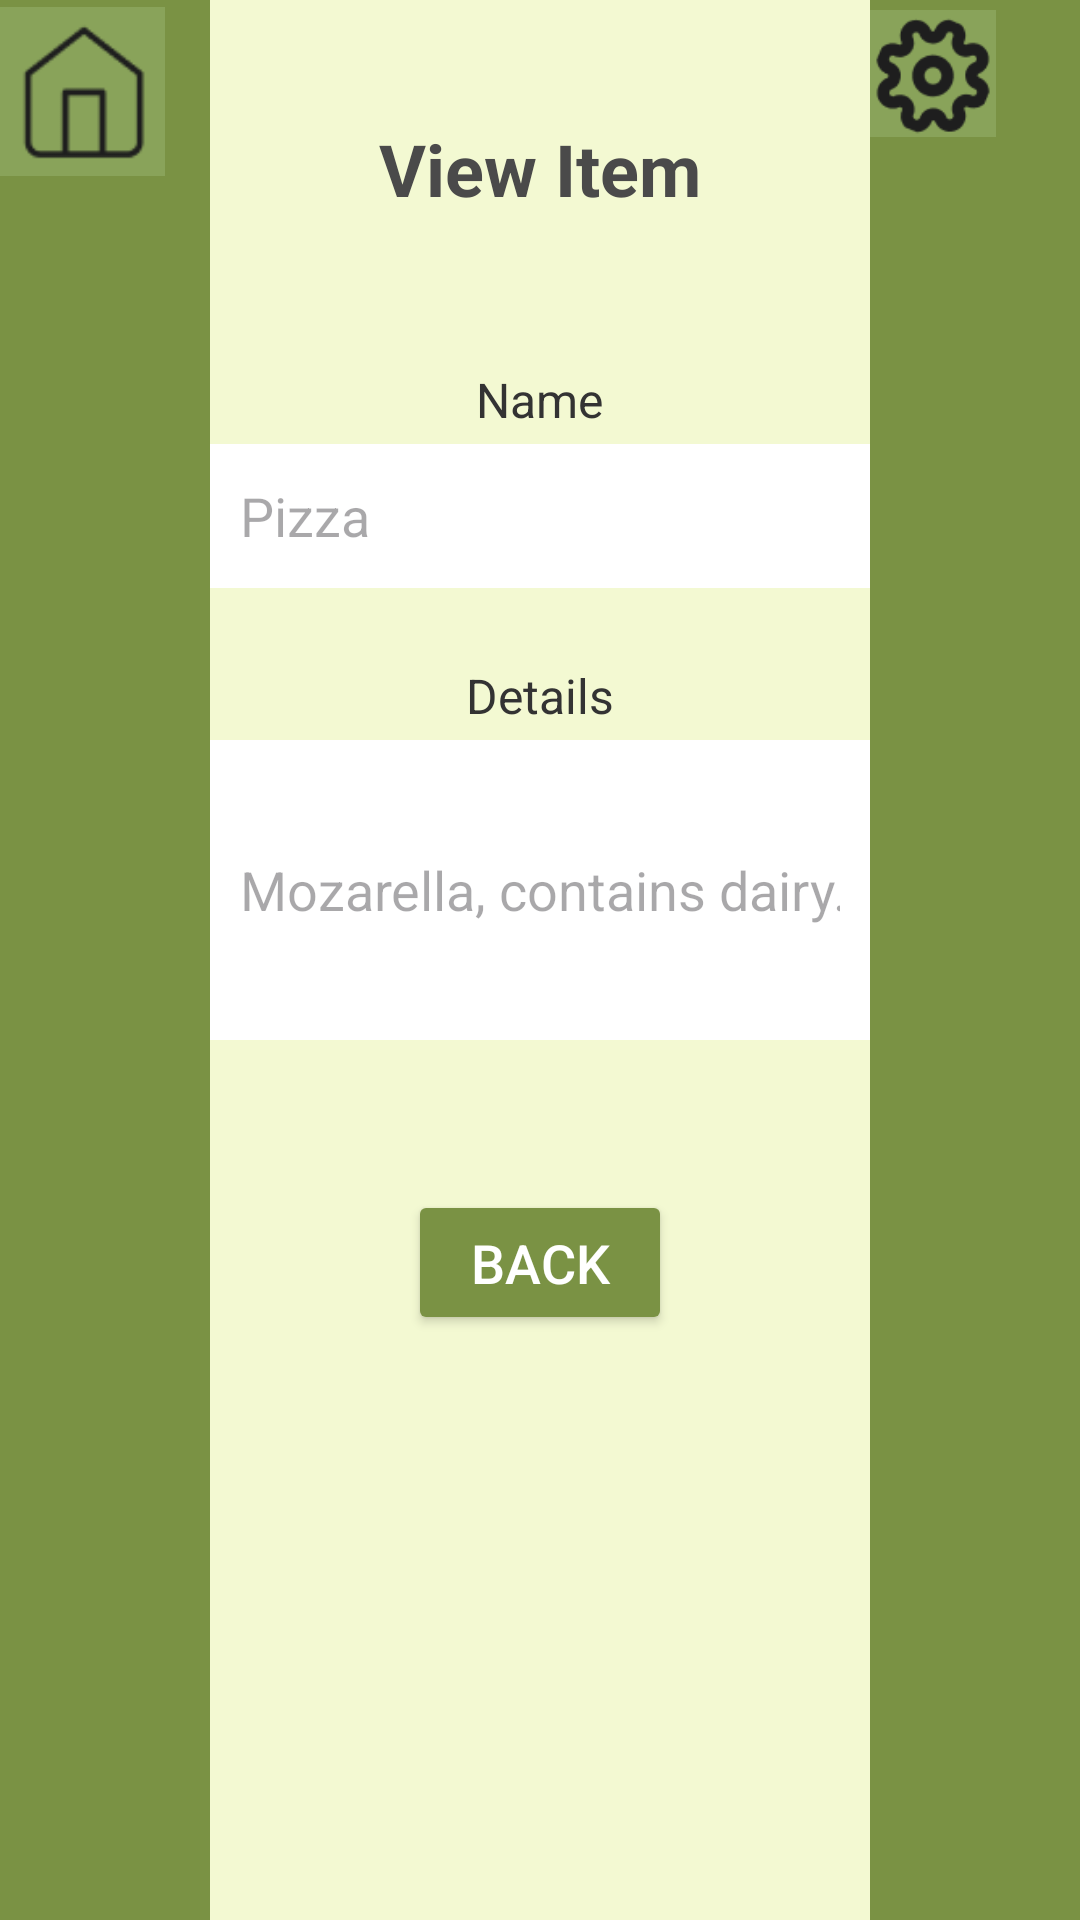

Icons on this 1080px x 1920px Android screen, each with the point to tap as (x=x, y=y):
home: (x=82, y=91)
settings: (x=933, y=76)
